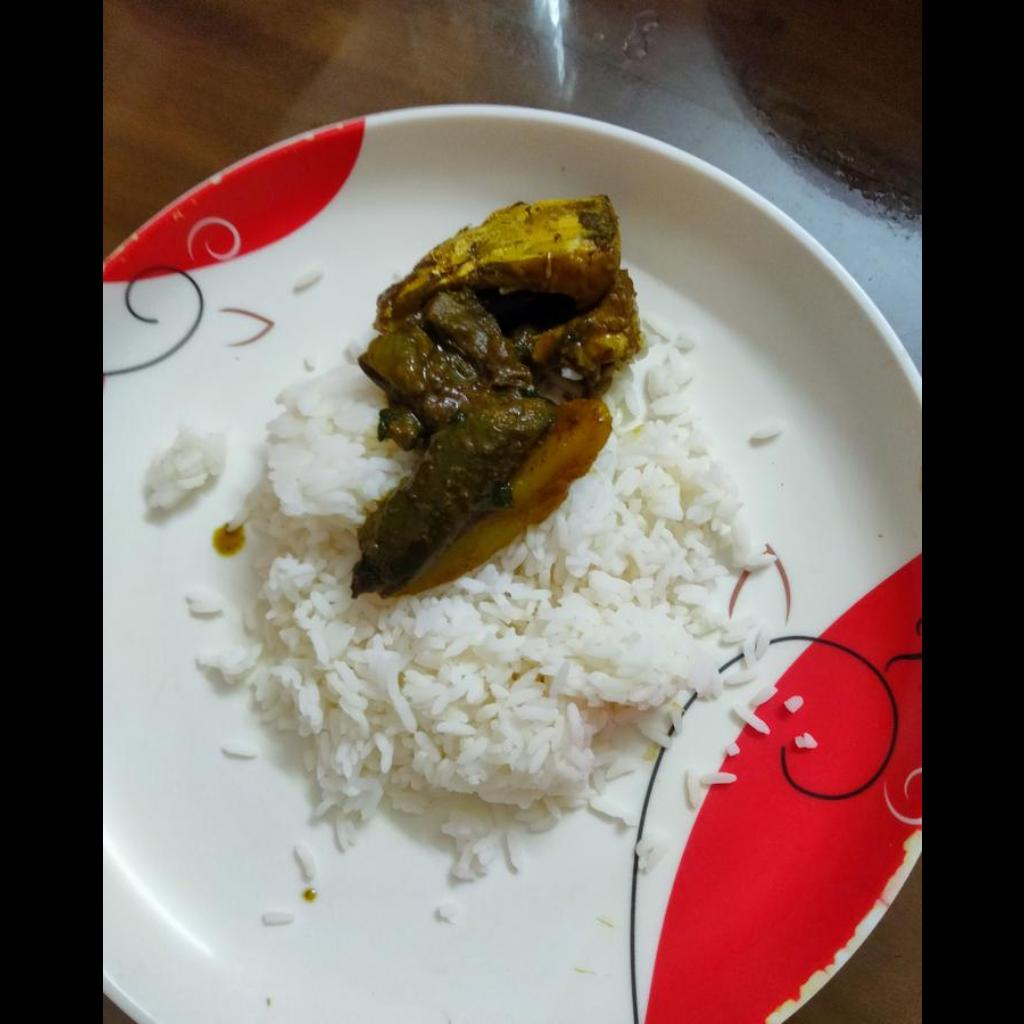fish: (376, 194, 635, 373)
potol: (350, 272, 636, 594)
rice: (250, 337, 781, 841)
